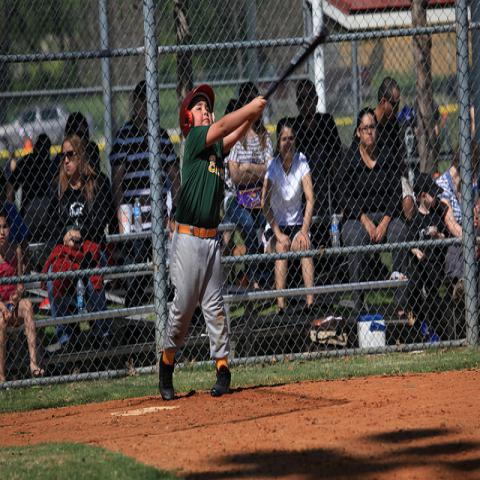car: (17, 104, 68, 146)
